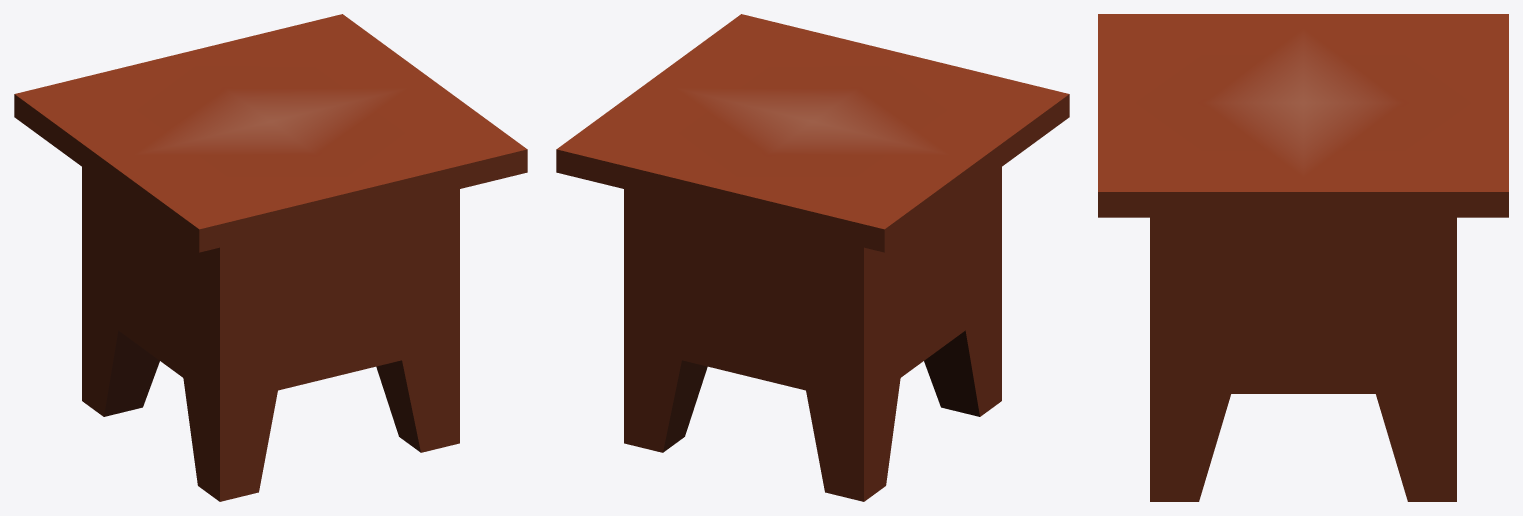
The model's file is Room_00.fbx.
3 renders of one model, left to right at view 1: azimuth 30°, elevation 25°; view 2: azimuth 150°, elevation 25°; view 3: azimuth 270°, elevation 25°, orthographic. The views are drawn at different scales.
Parts seen in each view (by area): view 1: Plane.005; view 2: Plane.005; view 3: Plane.005.
Part boxes in pixels (x1=…): Plane.005: x1=14, y1=14, x2=527, y2=501; Plane.005: x1=556, y1=14, x2=1069, y2=501; Plane.005: x1=1098, y1=14, x2=1508, y2=501.
Size of the model in its own units: 95.16 by 83.26 by 92.89.
